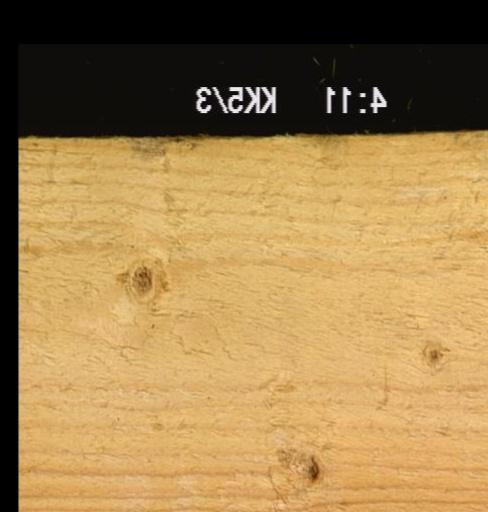small_knot: (421, 339, 445, 365)
sound_knot: (116, 258, 168, 303)
split: (18, 136, 78, 195)
